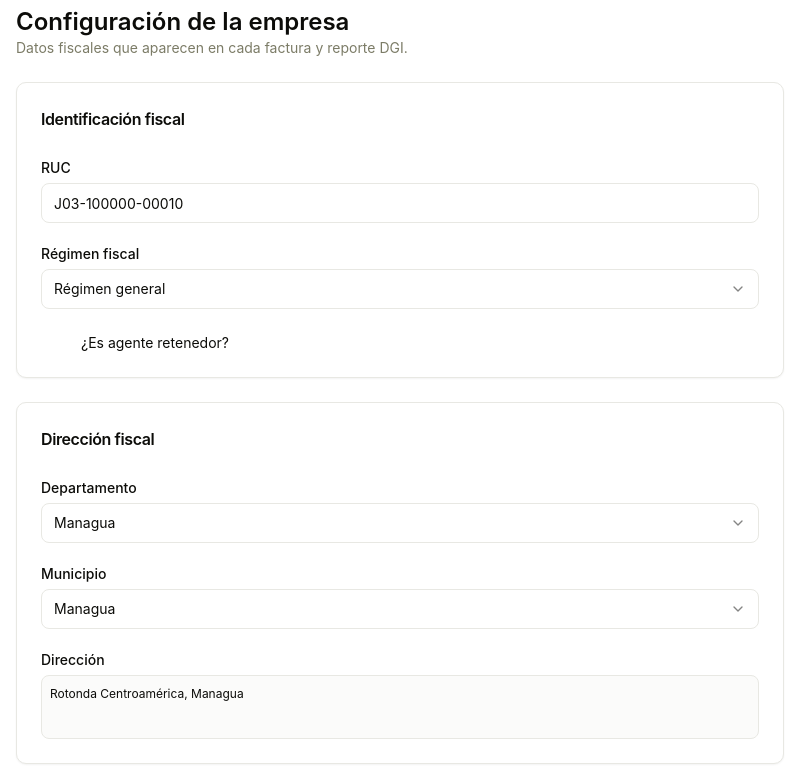
EmpresaFiscalSettingsForm — RUC validation › rejects a RUC that doesn't match the mask
Type "123" into the field labelled "RUC" at (400, 203), box [41,183,759,223]
(page scrolled)
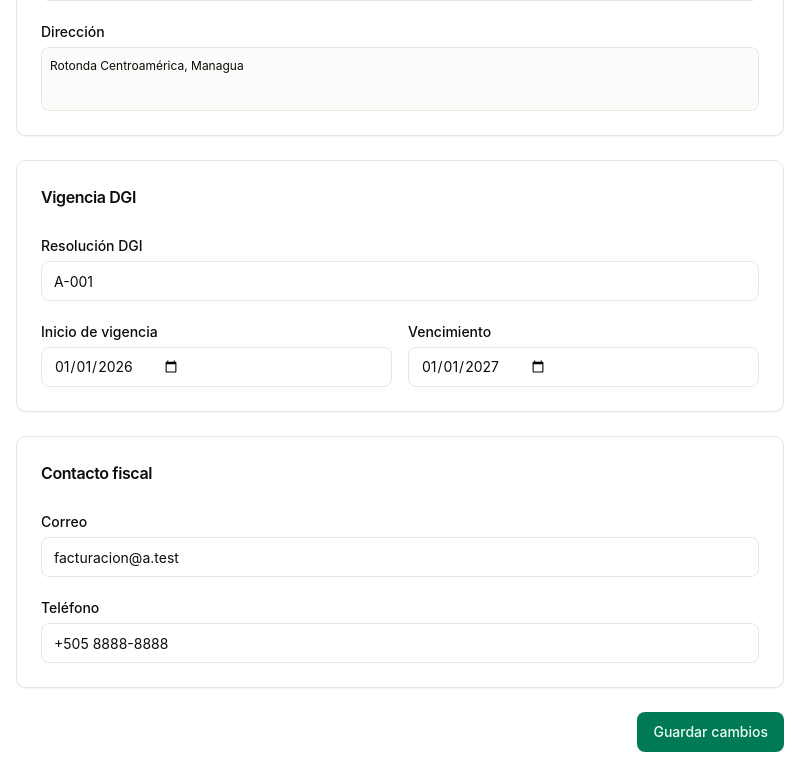
Click the button "Guardar cambios" at (711, 732), box [638,712,784,752]
(page scrolled)
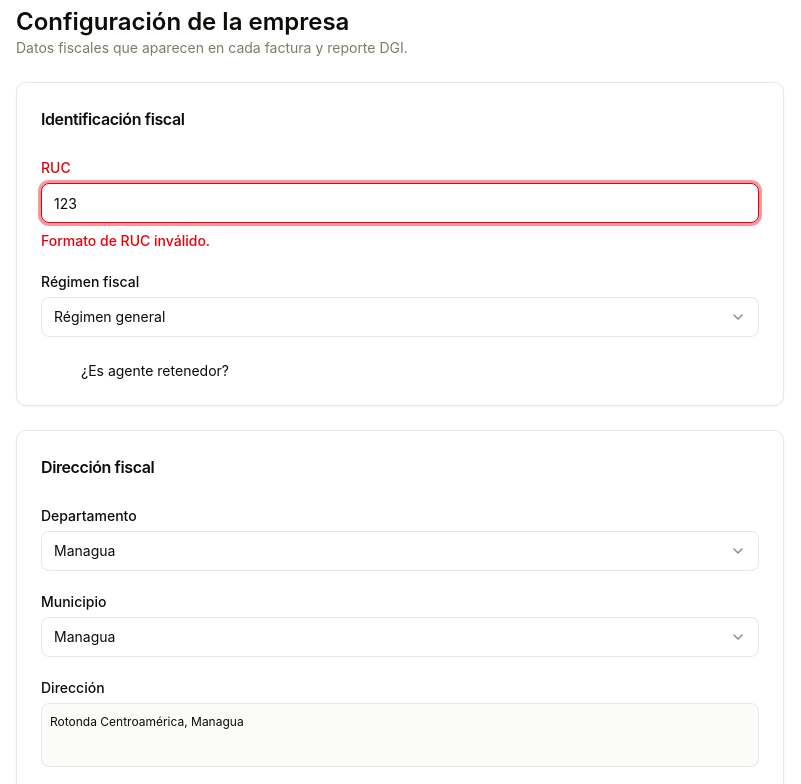
Expected: the text "Formato de RUC inválido." is shown, [41,232,210,249]
